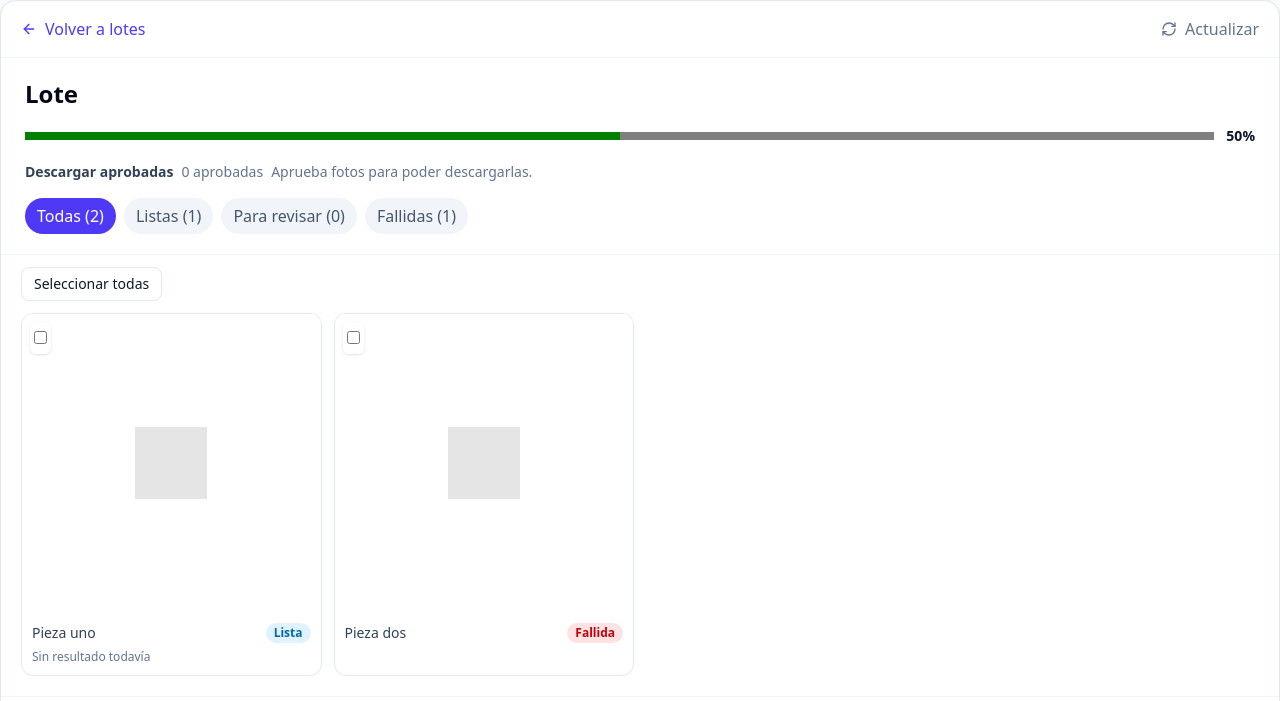
it: carga imágenes desde la API y filtra las fallidas
Expected: the text "Pieza uno" is shown, [32,622,96,642]
Click the button "Fallidas (1)".
click(416, 216)  # box [365,198,468,234]
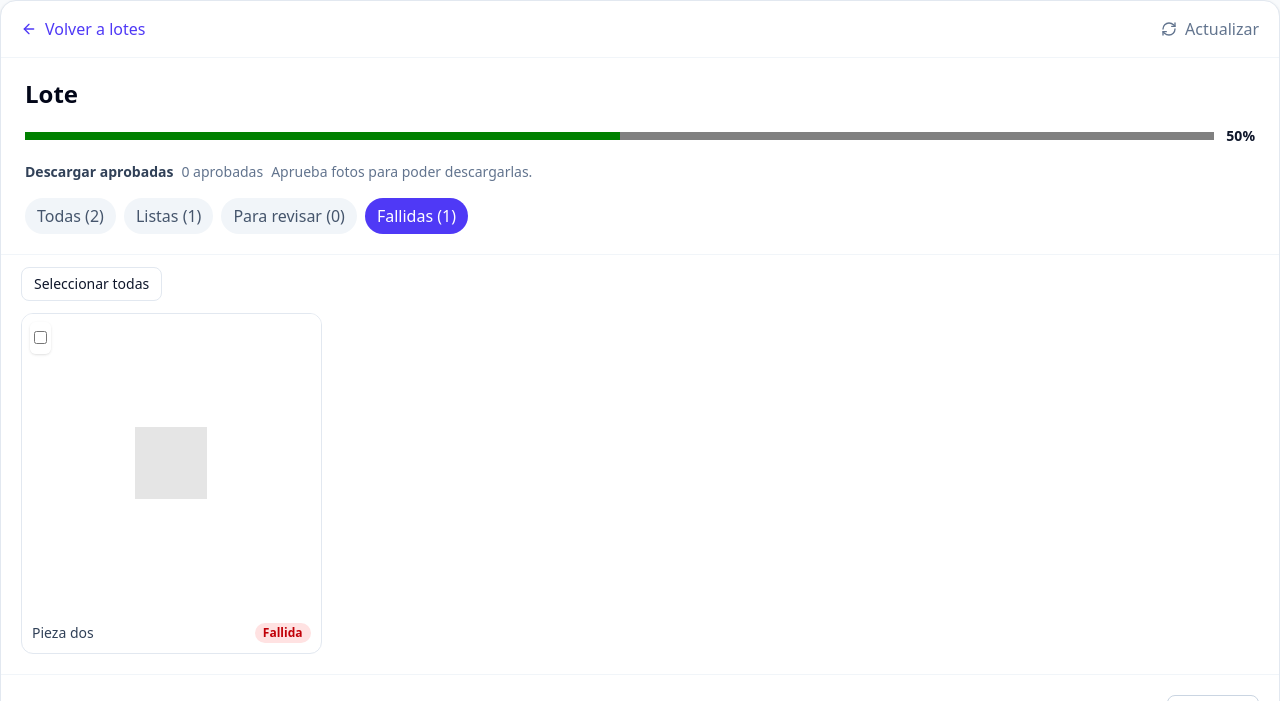
Expected: the text "Pieza dos" is shown, [32,622,94,642]
Result: the button "Pieza uno" is gone
